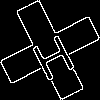H: (25, 25, 78, 83)
